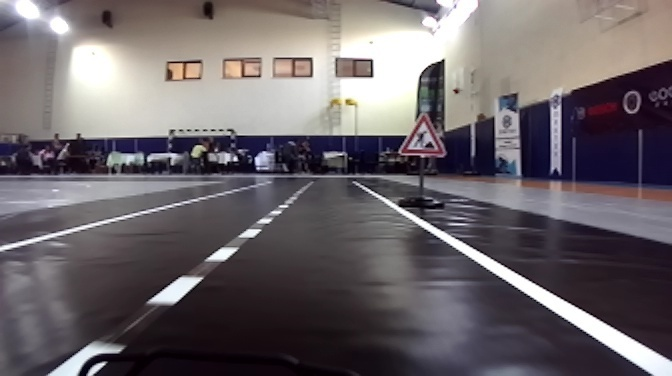yol_yapimi: (395, 112, 447, 158)
